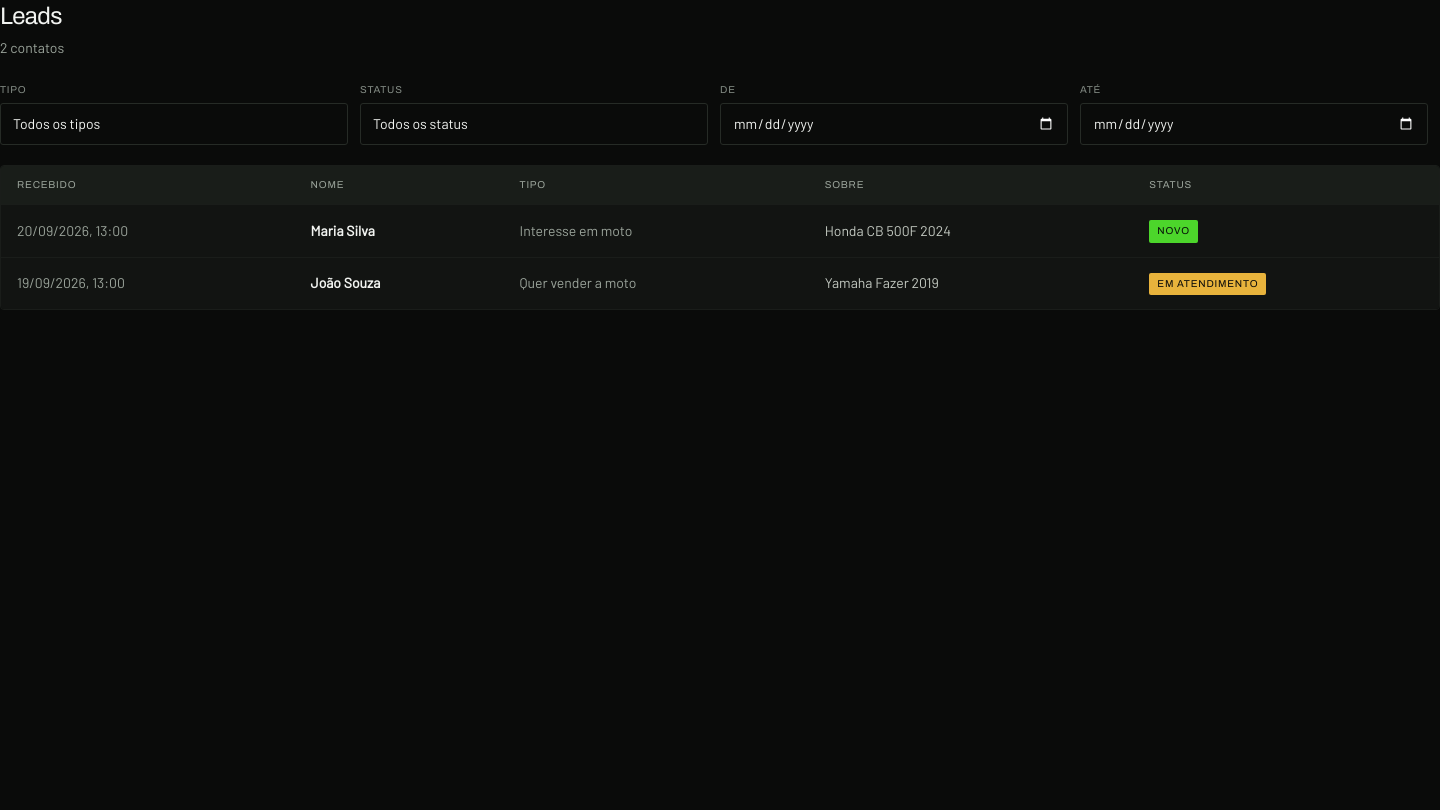
Test: tela de leads › anotação da equipe é enviada e o campo limpa
Click the button "Maria Silva": x=343, y=231 [311,221,375,241]
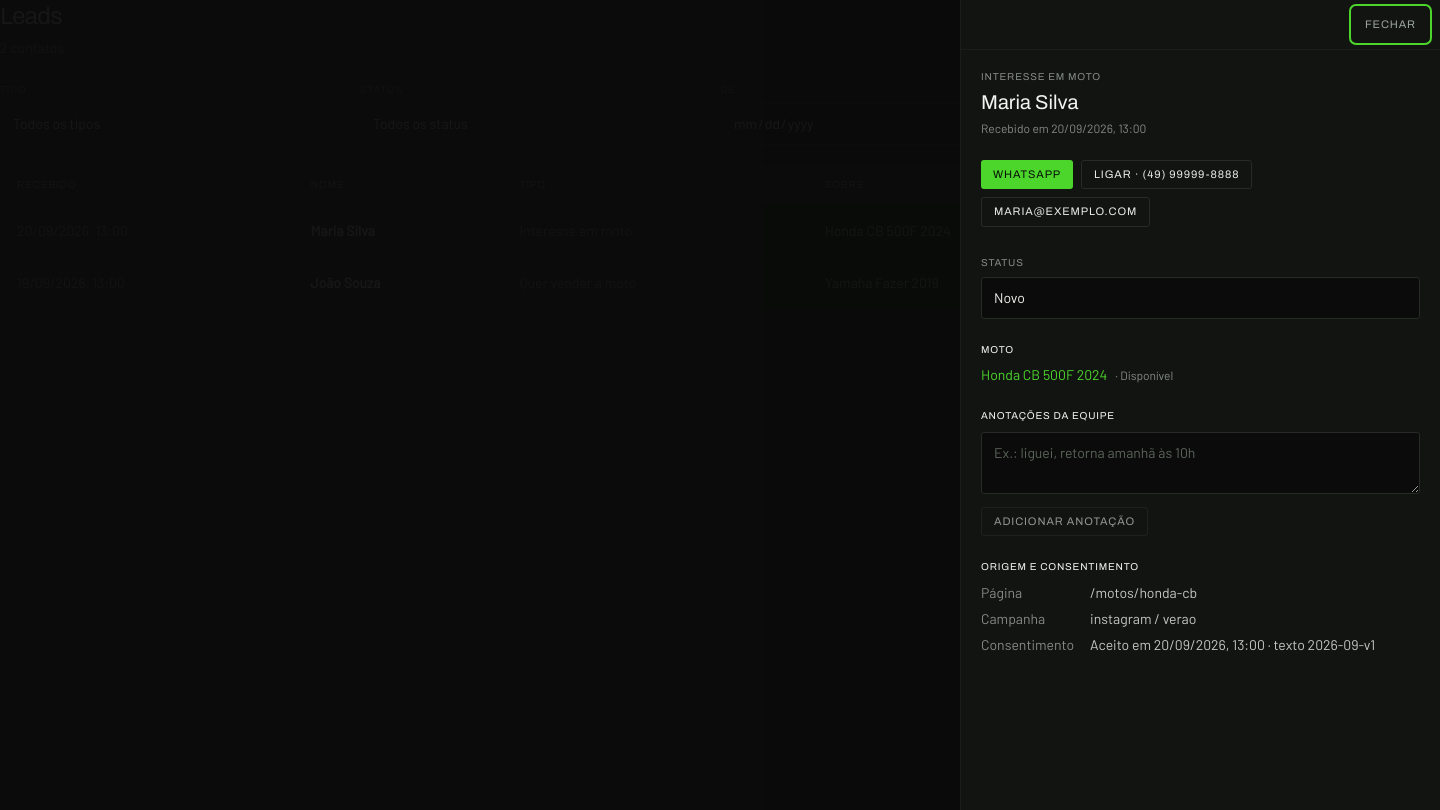
In the text box named "Nova anotação": x=1200, y=463 [981,432,1420,494], type "Liguei, retorna amanhã"
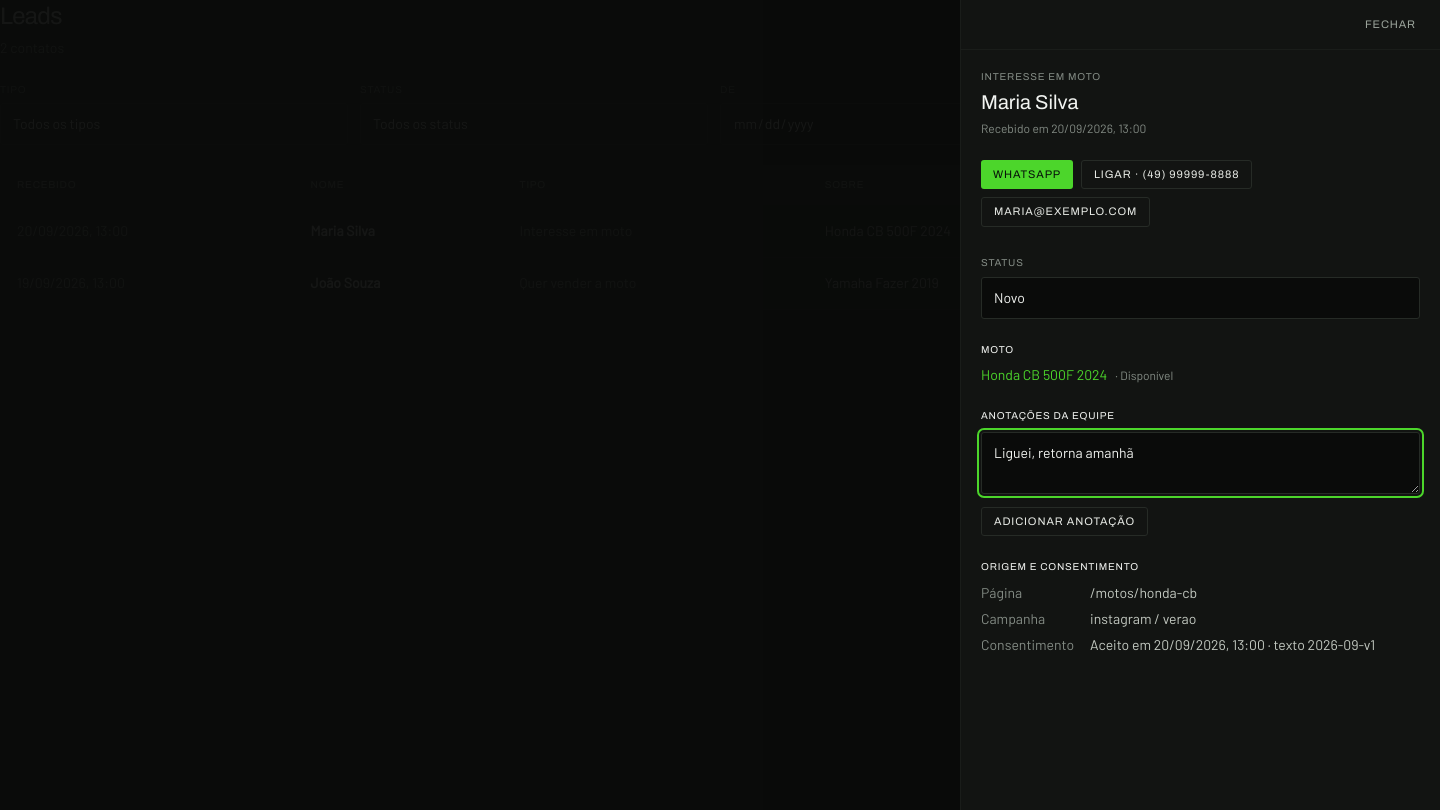
Click the button "Adicionar anotação": x=1064, y=522 [981,507,1148,536]
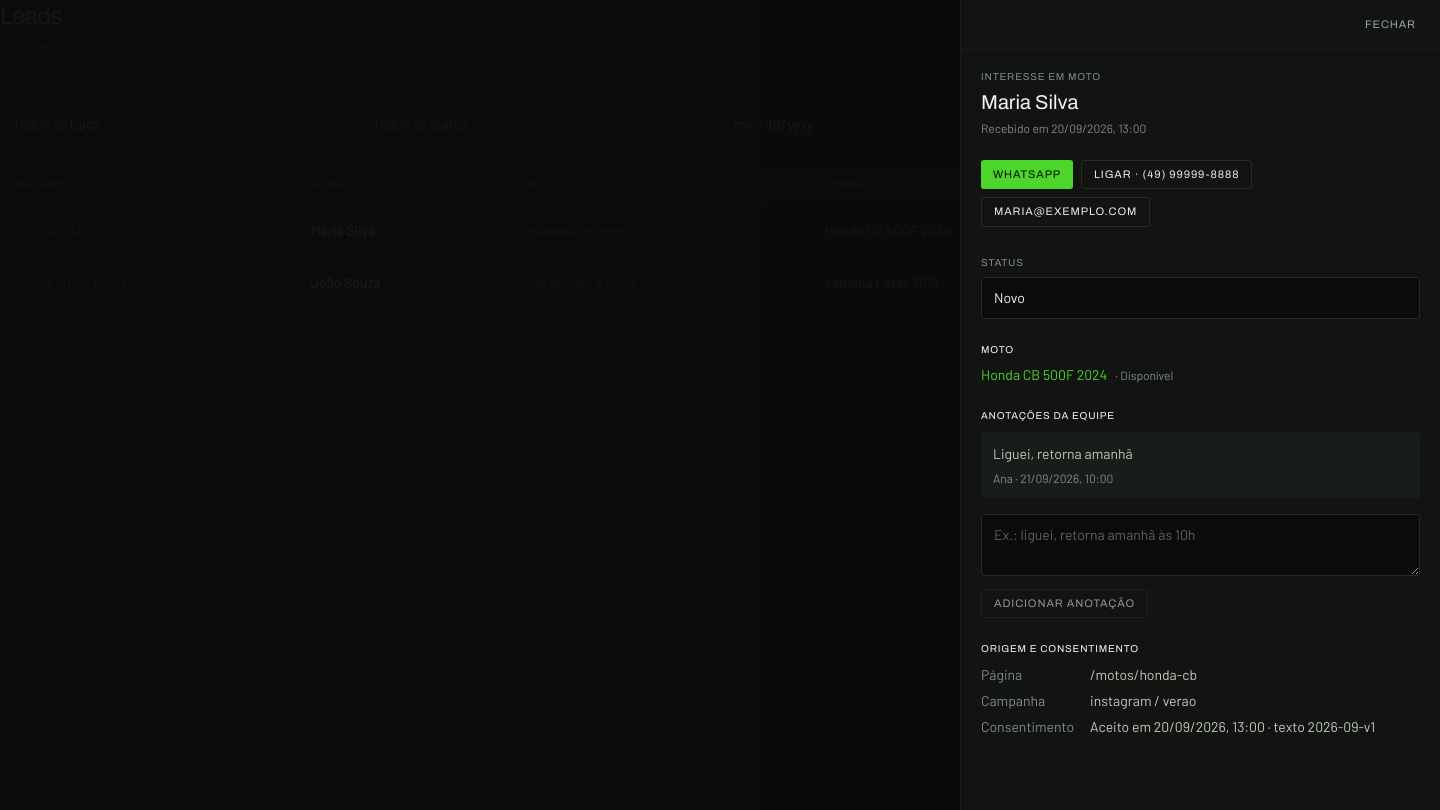
Now the text "Ana · 21/09/2026, 10:00" is shown, box [993,471,1113,485]
Now the text box named "Nova anotação" is empty, box [981,514,1420,576]
